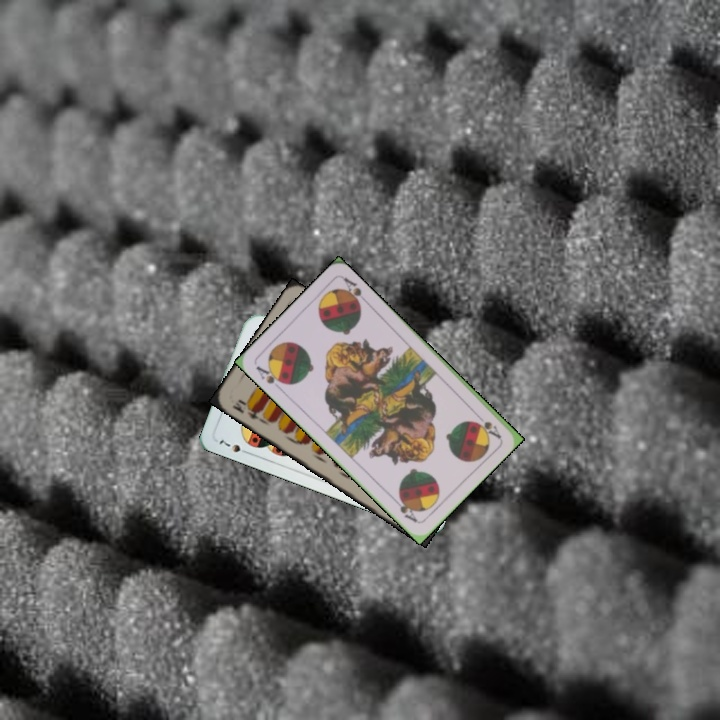E10: (228, 395, 264, 424)
S7: (215, 435, 253, 457)
SA: (471, 408, 503, 441), (252, 362, 289, 387)
